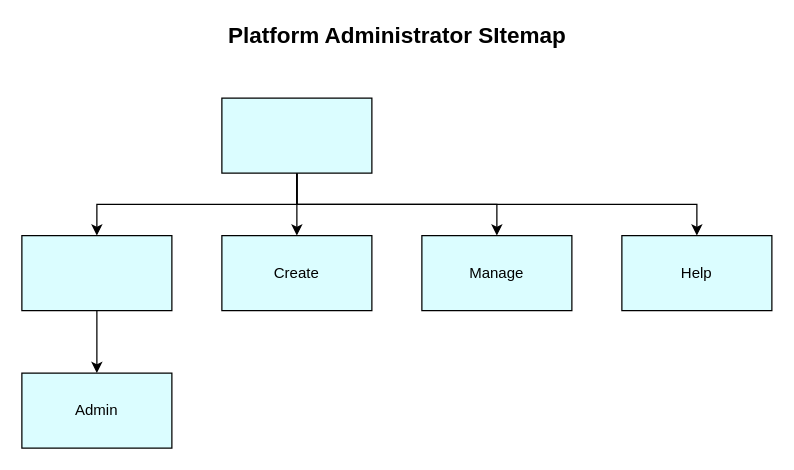
Image size: 794x470. Some labels were removed from this diagram. Here are the shapes that lost their labels. From the top down, the centre of each, then its label:
At (x=296, y=135): "Index".
At (x=96, y=272): "View".
